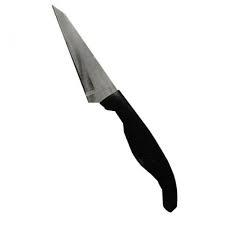Knife: (50, 4, 178, 212)
